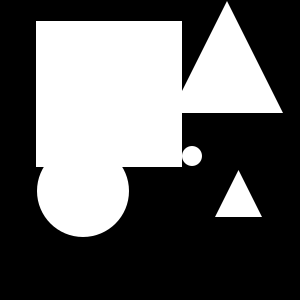circle: (36, 21, 182, 167)
rectangle: (37, 145, 129, 237), (182, 146, 202, 166)
triangle: (171, 1, 283, 113), (215, 170, 262, 217)
